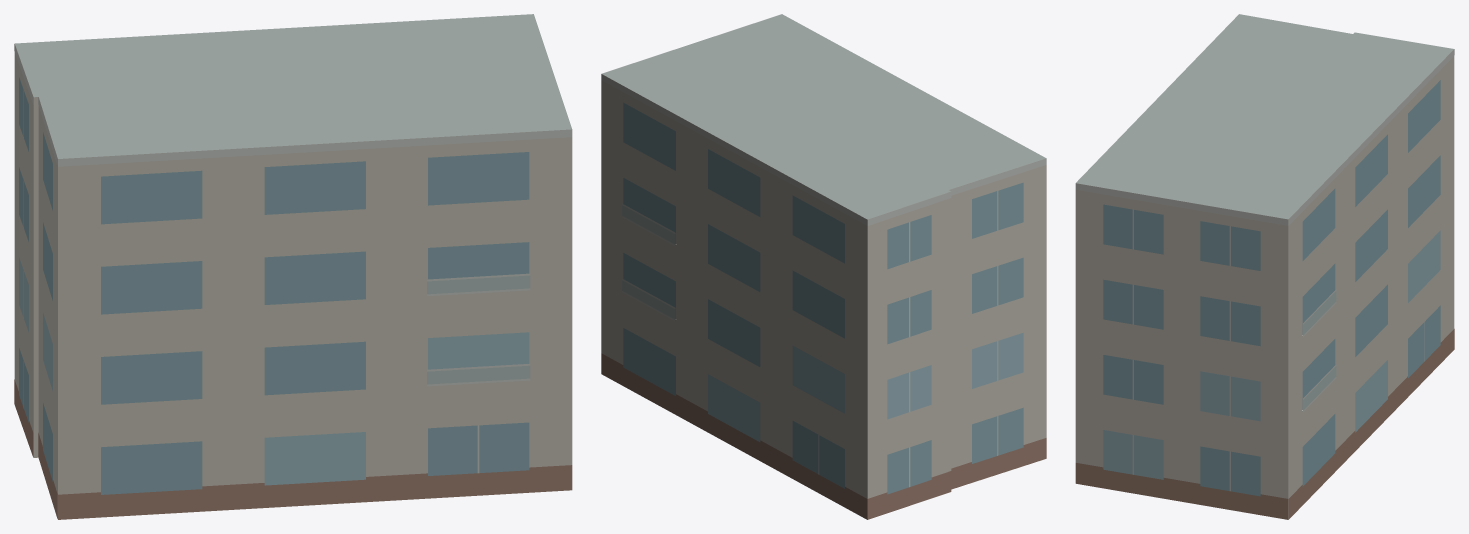
The model's file is survey-upis-32567071.glb.
3 views of the same model, side by side, from view 1: azimuth 30°, elevation 25°; view 2: azimuth 150°, elevation 25°; view 3: azimuth 270°, elevation 25° (orthographic). The views are drawn at different scales.
Visible parts, largest first — view 1: survey-upis-32567071.tmp; view 2: survey-upis-32567071.tmp; view 3: survey-upis-32567071.tmp.
Boxes of the visible parts, bbox=[...] form: survey-upis-32567071.tmp: bbox=[14, 14, 572, 519]; survey-upis-32567071.tmp: bbox=[601, 14, 1046, 519]; survey-upis-32567071.tmp: bbox=[1075, 14, 1454, 519].
Bounding box in the file's own units: 16.73 × 11.4 × 13.04.
